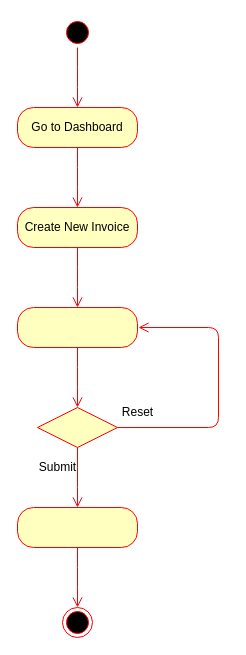
This 246x655 diagram has some shape labels left out. Each missing label, with the centre of its shape:
"Back to Dashboard" belongs at (x=77, y=527).
"Fill in the other Expenses (apart from COGS)" belongs at (x=77, y=327).
